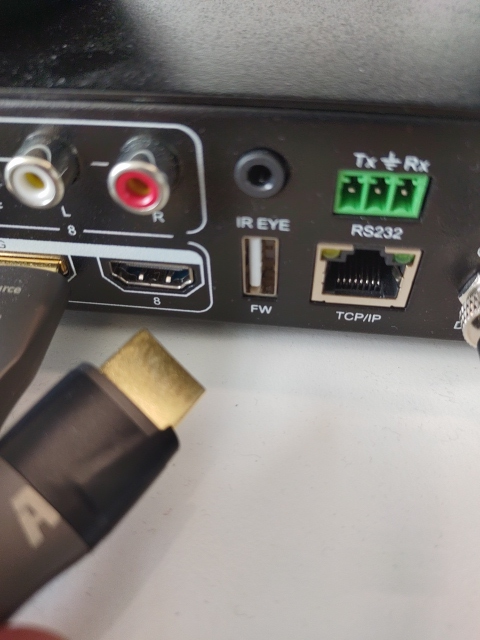3.5mm_audio: (110, 164, 167, 214), (5, 159, 61, 208), (234, 155, 283, 197)
Ethernet: (317, 243, 411, 305)
HDMI: (106, 259, 195, 290)
USB: (242, 236, 278, 301)
